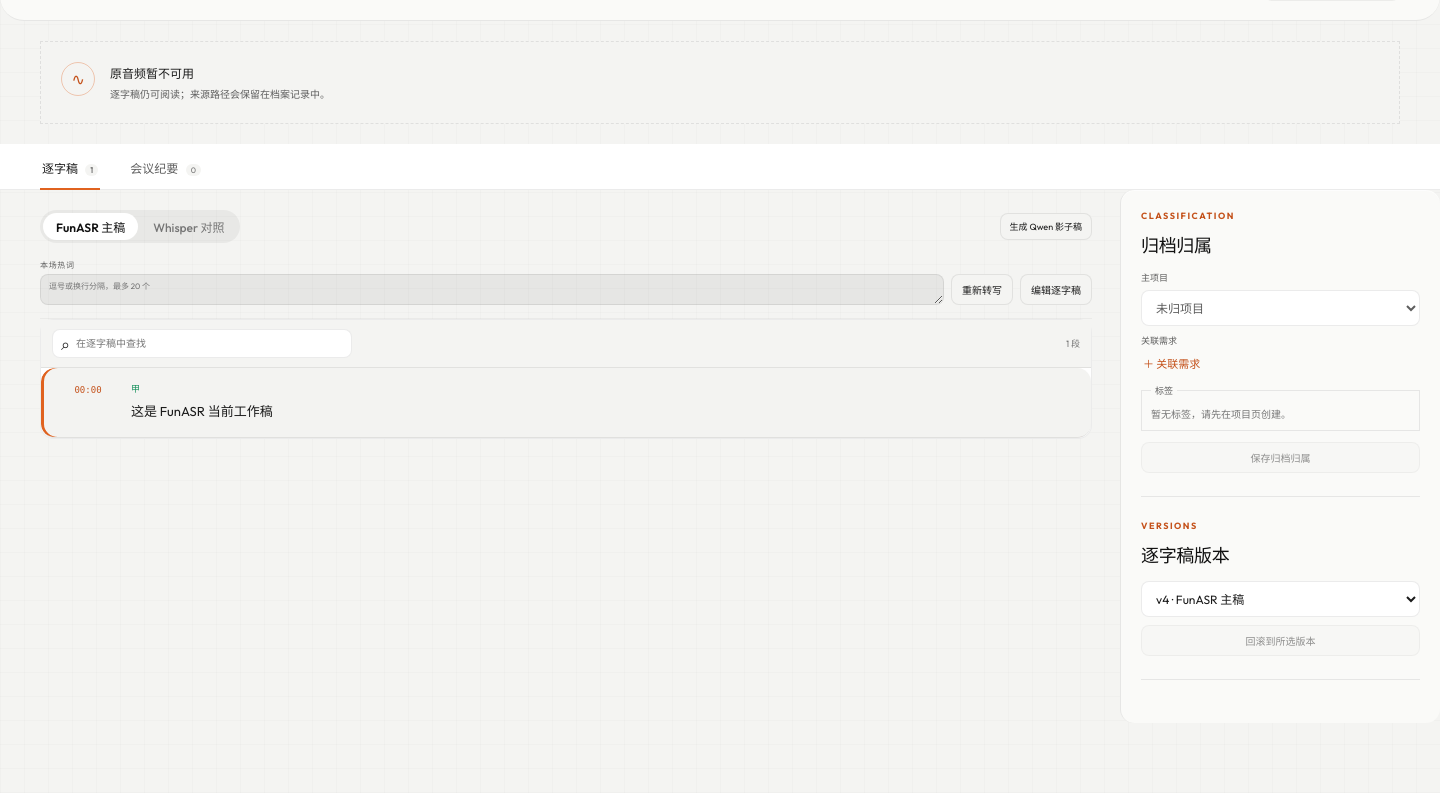
it: MeetingDetailPage Whisper comparison › uses the returned Qwen state instead of claiming every request was queued
The image size is (1440, 793).
(page scrolled)
Step 1. Click the button "生成 Qwen 影子稿" → (1046, 226), box [1000,213,1092,240]
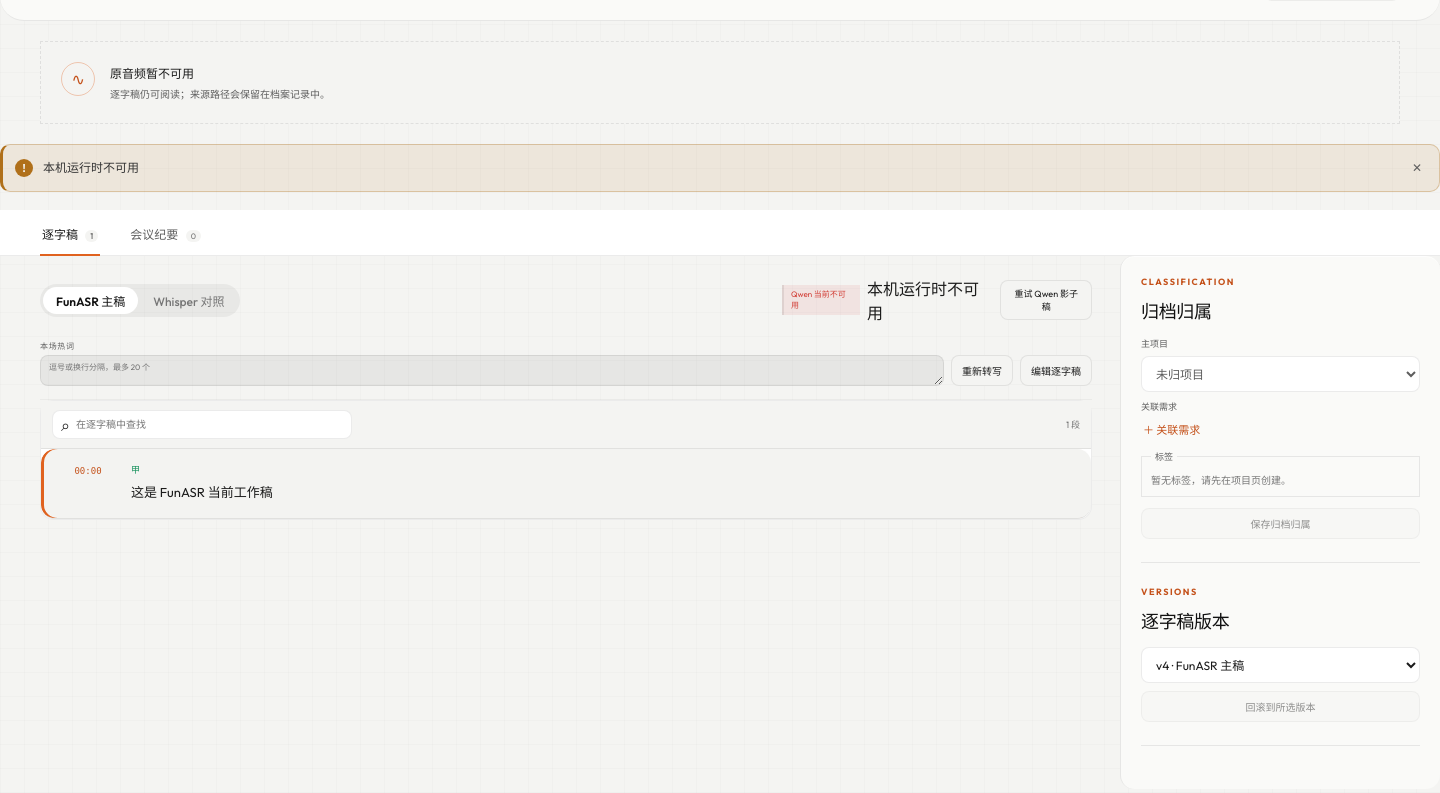
Now the text "Qwen 当前不可用" is shown, box [782,285,860,315]
Now the button "重试 Qwen 影子稿" is shown, box [1000,280,1092,320]
